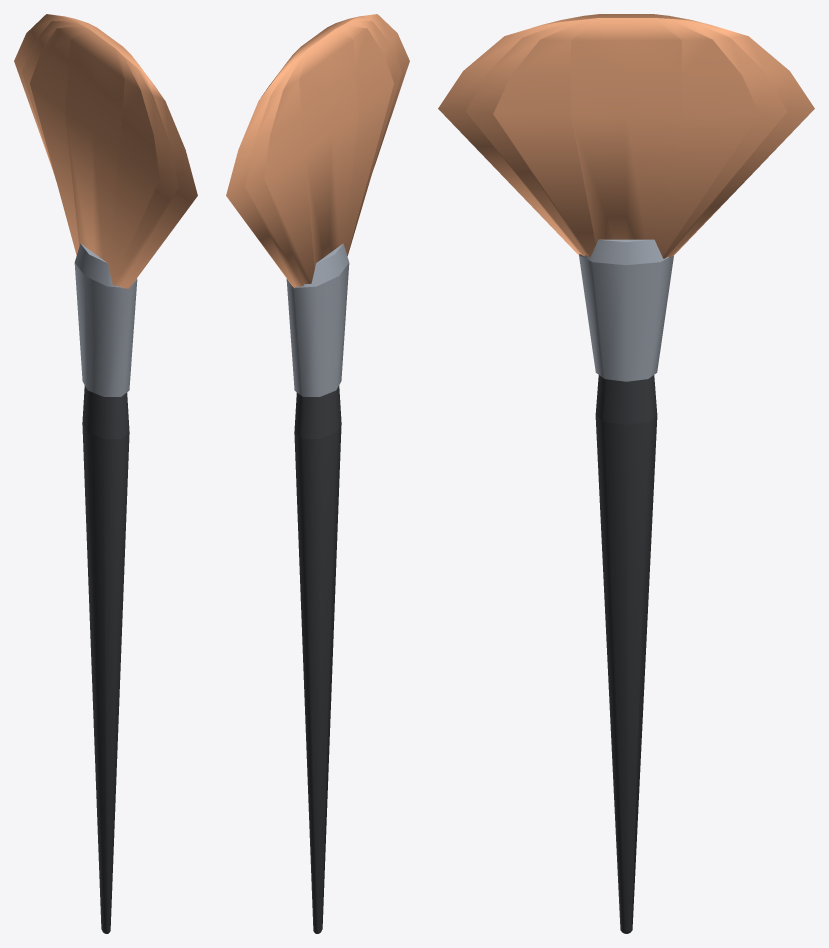
The model's file is Brush_Large_Fan.glb.
The picture shows the model from 3 angles, left to right: view 1: azimuth 30°, elevation 25°; view 2: azimuth 150°, elevation 25°; view 3: azimuth 270°, elevation 25°; orthographic projection. The views are drawn at different scales.
Parts seen in each view (by area): view 1: brush_large_fan.001; view 2: brush_large_fan.001; view 3: brush_large_fan.001.
Boxes of the visible parts, x1,y1,x2,y2 form: brush_large_fan.001: [14, 14, 197, 933]; brush_large_fan.001: [226, 14, 409, 933]; brush_large_fan.001: [438, 14, 814, 933].
Bounding box in the file's own units: 1.32 × 26.72 × 9.95.
Materials: 1 (1 with a texture image).
